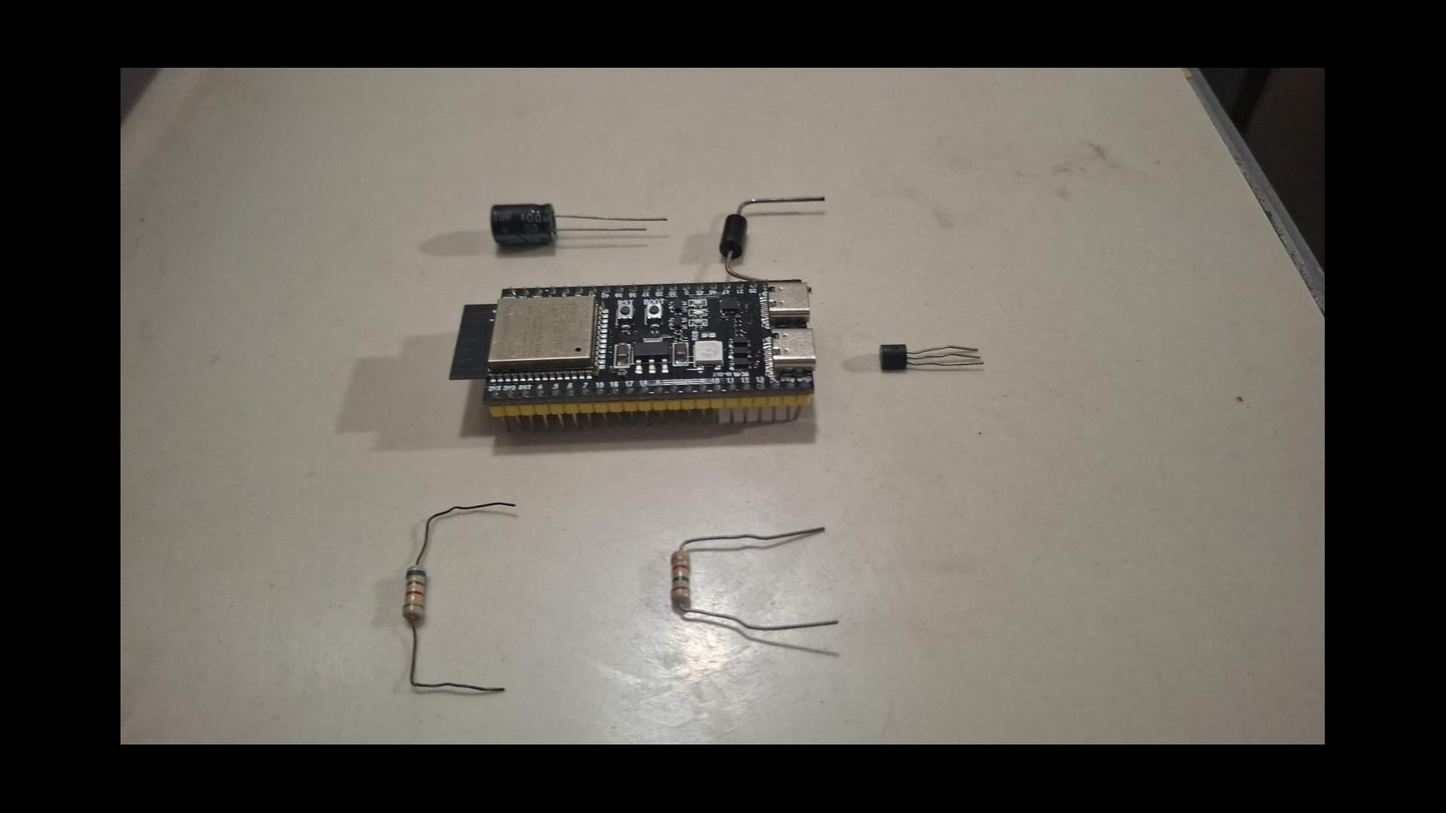Capacitor: (486, 202, 668, 259)
Diodo: (720, 196, 825, 281)
ESP32: (449, 280, 817, 430)
Resistencia: (402, 502, 516, 694), (671, 527, 839, 632)
Transistor: (875, 342, 986, 375)
